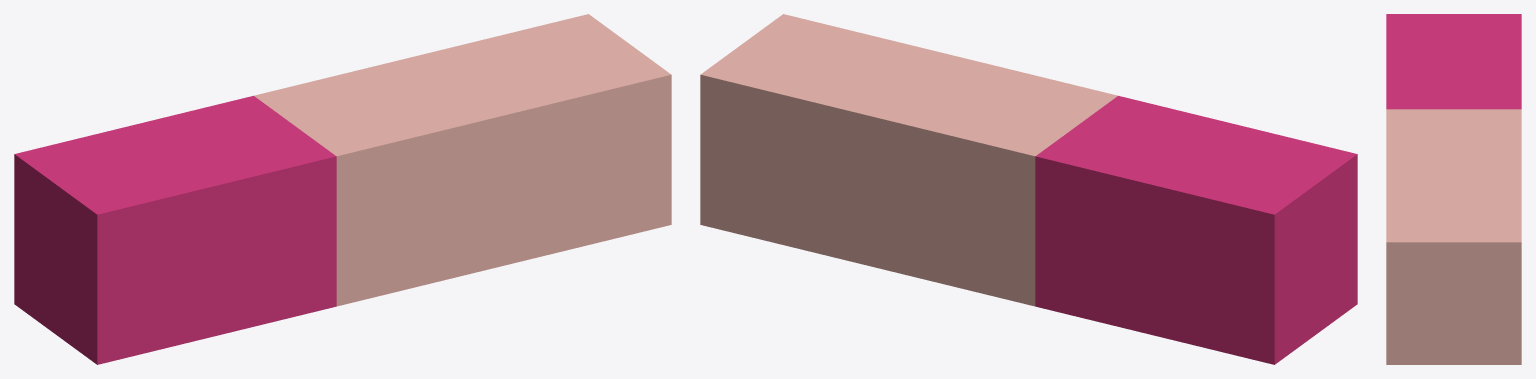
Rendered from jane_doe_arm.dae.
3 views of the same model, side by side, from view 1: azimuth 30°, elevation 25°; view 2: azimuth 150°, elevation 25°; view 3: azimuth 270°, elevation 25° (orthographic). The views are drawn at different scales.
Parts seen in each view (by area): view 1: PlaneCOL; view 2: PlaneCOL; view 3: PlaneCOL.
Part boxes in pixels (box(x1,y1,x2,y2)): PlaneCOL: box(14, 14, 671, 364); PlaneCOL: box(700, 14, 1357, 364); PlaneCOL: box(1386, 14, 1521, 364).
Bounding box in the file's own units: 1.2 × 0.3 × 0.3.
